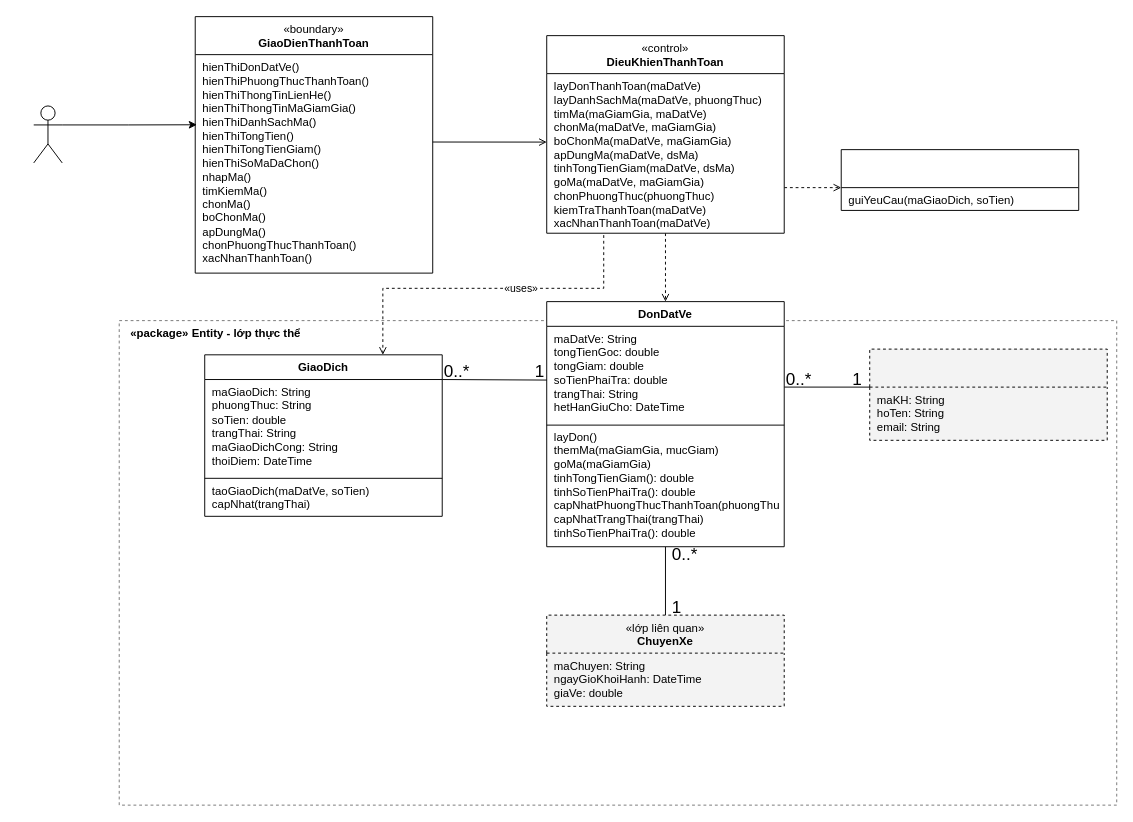
Some shapes in this 1133 by 822 pixel diagram are drawn without their labels. Each missing label, with the box of its shape:
Hành Khách: (33, 105, 62, 163)
«external» CongThanhToan: (840, 149, 1079, 210)
«lớp liên quan» HanhKhach: (869, 348, 1107, 440)
